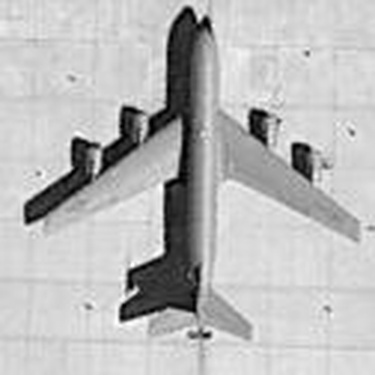airplane: (13, 10, 365, 351)
